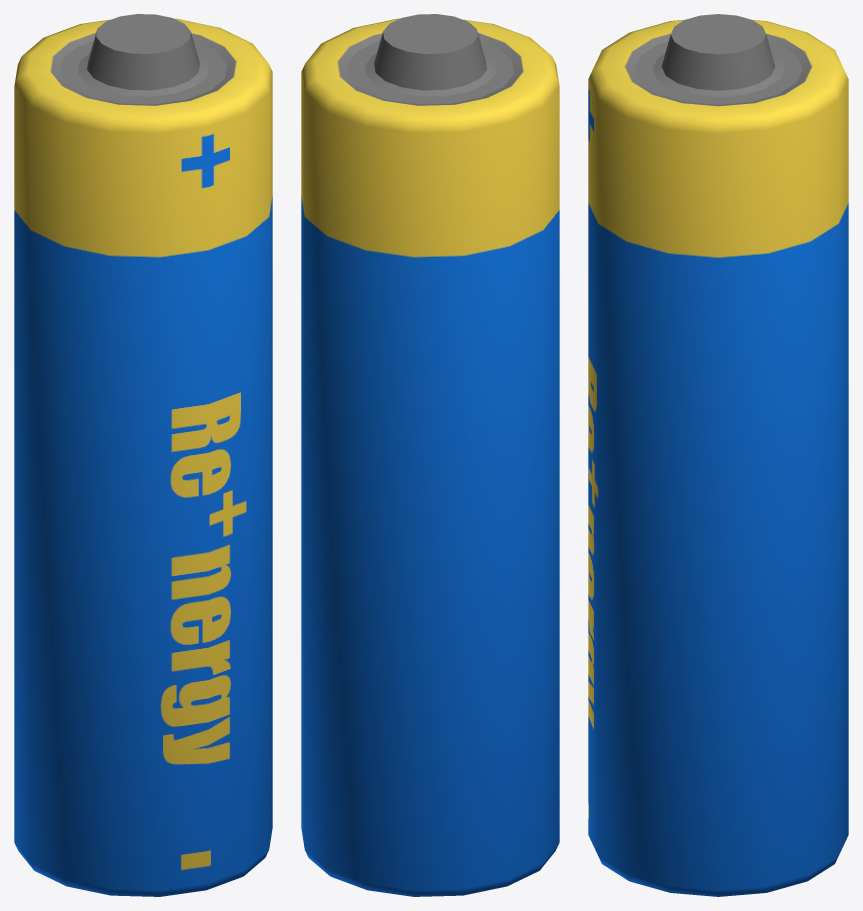
File: Battery.fbx
The picture shows the model from 3 angles, left to right: view 1: azimuth 30°, elevation 25°; view 2: azimuth 150°, elevation 25°; view 3: azimuth 270°, elevation 25°; orthographic projection.
Parts seen in each view (by area): view 1: Battery; view 2: Battery; view 3: Battery.
Boxes of the visible parts, <box> form: Battery: <box>14,14,272,896</box>; Battery: <box>301,14,559,896</box>; Battery: <box>588,14,848,896</box>.
Bounding box in the file's own units: 0.29 × 1 × 0.29.
1 material, 1 textured.
